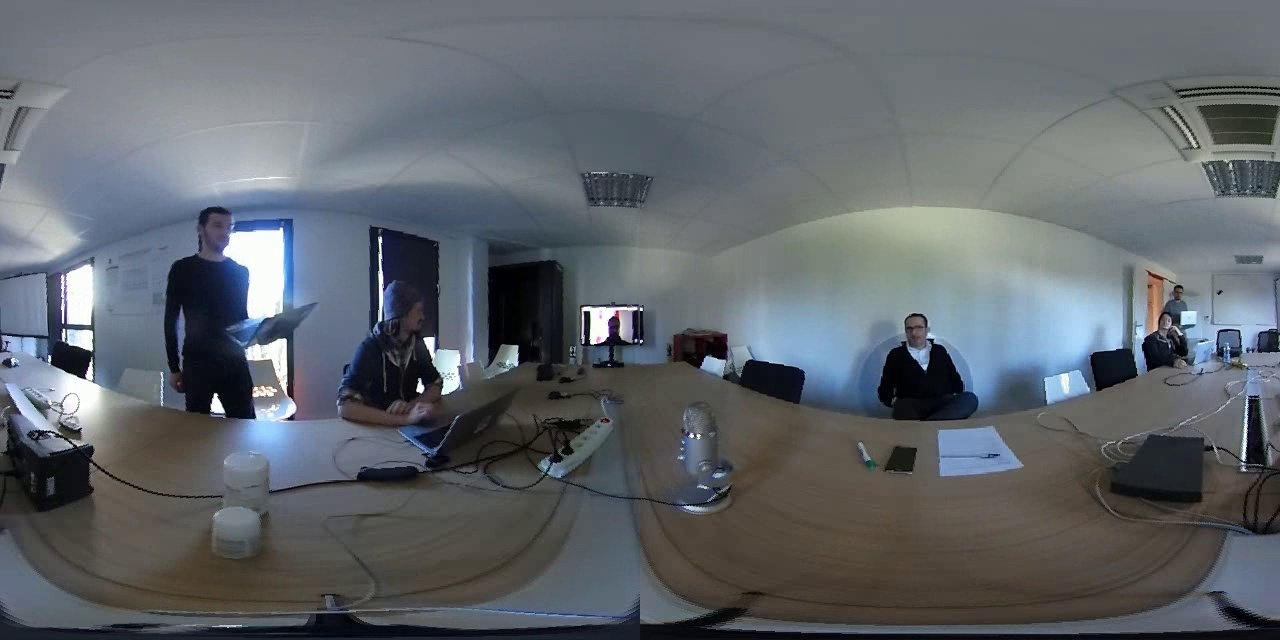person: (173, 197, 265, 401), (335, 274, 452, 428), (876, 304, 971, 418), (1140, 303, 1189, 365), (583, 304, 641, 343), (1162, 273, 1192, 316)
